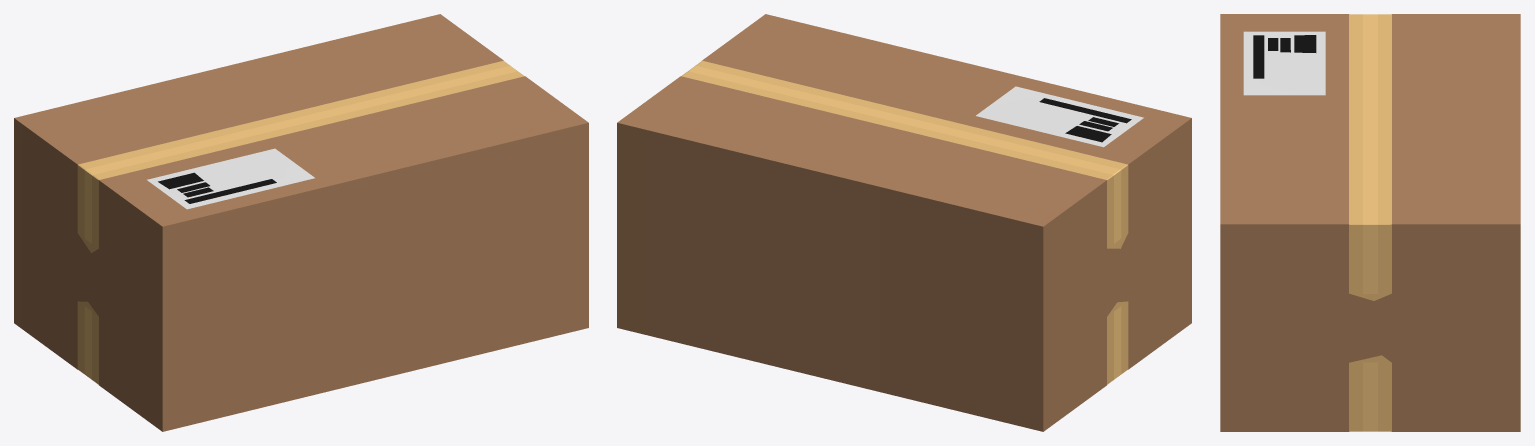
The model's file is Tan Packing Box #4.fbx.
The picture shows the model from 3 angles, left to right: view 1: azimuth 30°, elevation 25°; view 2: azimuth 150°, elevation 25°; view 3: azimuth 270°, elevation 25°; orthographic projection.
Parts seen in each view (by area): view 1: Med Tan Packing Box #2; view 2: Med Tan Packing Box #2; view 3: Med Tan Packing Box #2.
Part boxes in pixels (left/top/right/bottom): Med Tan Packing Box #2: left=14, top=14, right=588, bottom=431; Med Tan Packing Box #2: left=617, top=14, right=1191, bottom=431; Med Tan Packing Box #2: left=1220, top=14, right=1520, bottom=431.
Size of the model in its own units: 164 by 215 by 357.
Materials: 1 (1 with a texture image).
